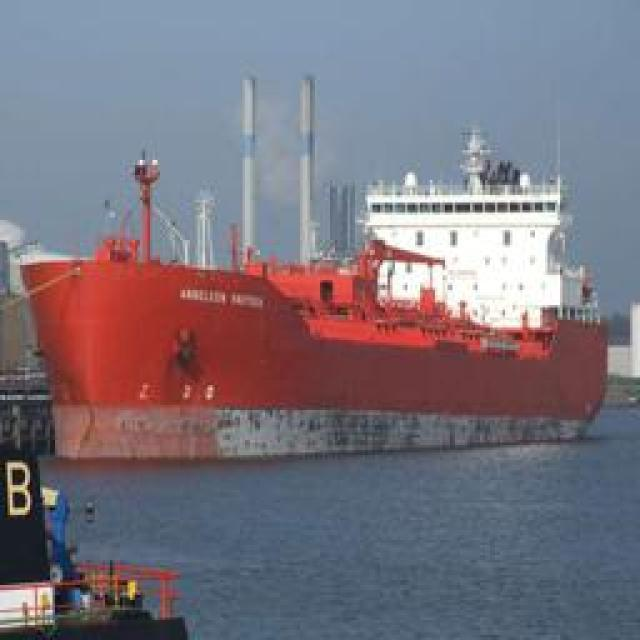ship2: (18, 121, 607, 462)
